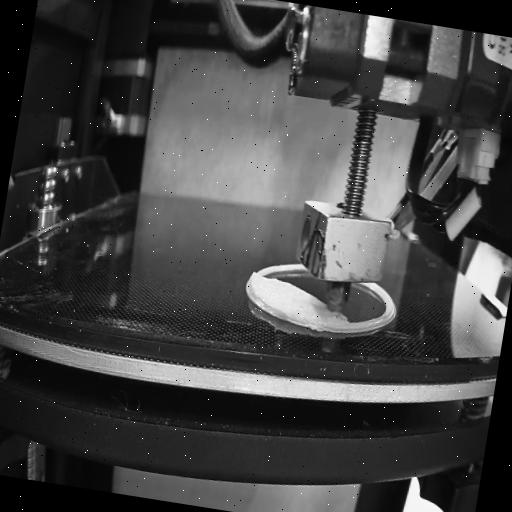over_extrusion: (240, 264, 264, 309)
